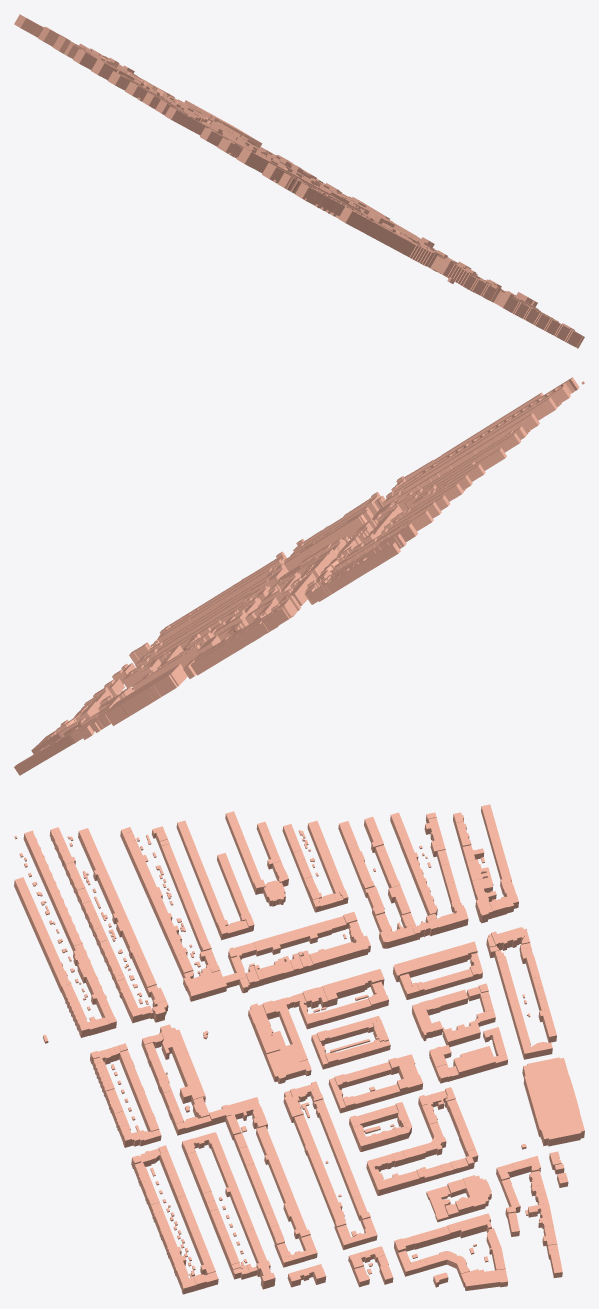
3 views of the same model, one above another, from view 1: azimuth 30°, elevation 25°; view 2: azimuth 150°, elevation 25°; view 3: azimuth 270°, elevation 25° (orthographic). The views are drawn at different scales.
Size of the model in its own units: 529 by 393 by 659.
